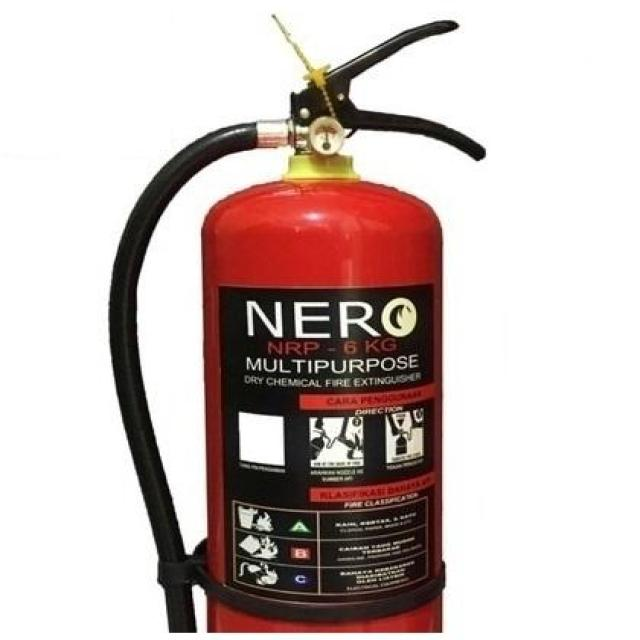fire_extinguisher: (101, 11, 493, 638)
